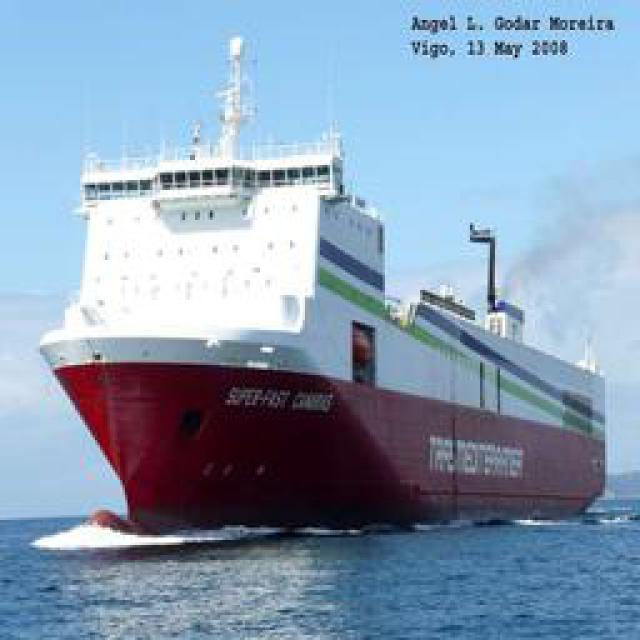Ship: (47, 1, 610, 541)
